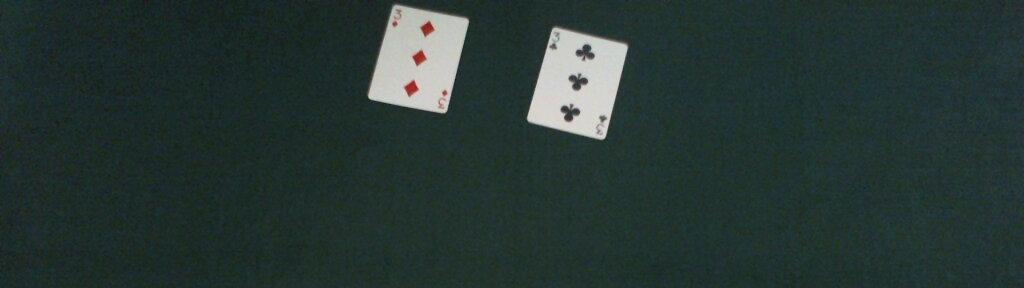three: (526, 25, 630, 140), (366, 3, 470, 115)
